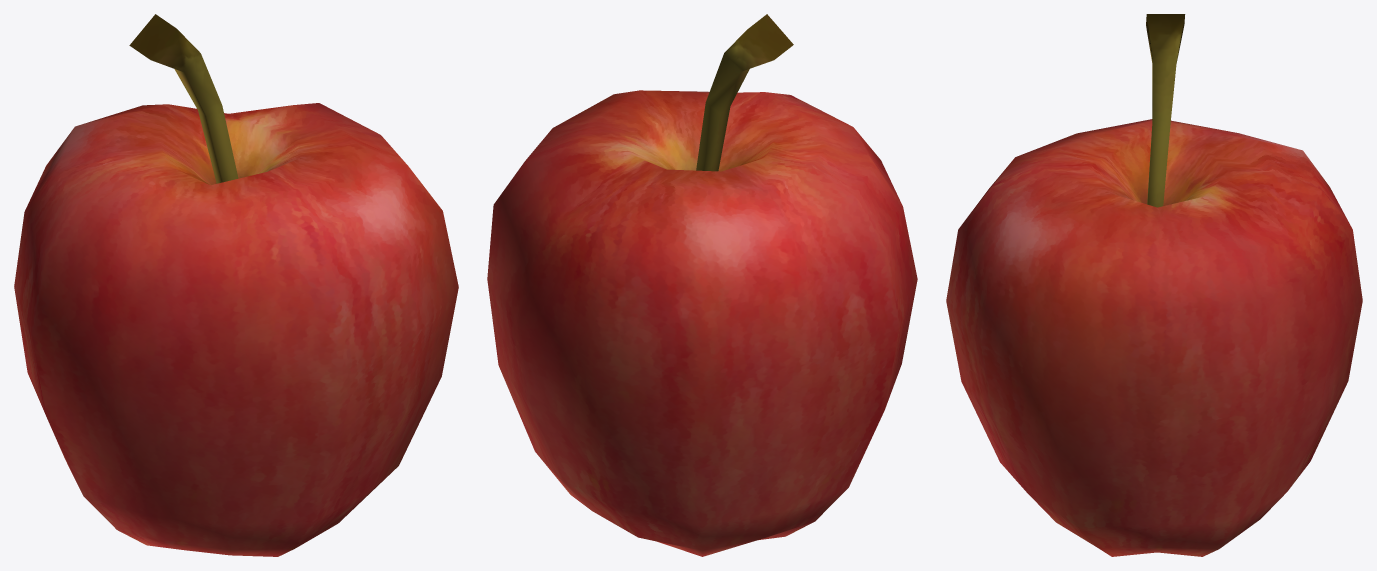
File: G_FruitTree_002_S1.FBX
3 views of the same model, side by side, from view 1: azimuth 30°, elevation 25°; view 2: azimuth 150°, elevation 25°; view 3: azimuth 270°, elevation 25° (orthographic). The views are drawn at different scales.
Visible parts, largest first — view 1: G_FruitTree_002_S1_P01_LOD0; view 2: G_FruitTree_002_S1_P01_LOD0; view 3: G_FruitTree_002_S1_P01_LOD0.
Part boxes in pixels (left/top/right/bottom): G_FruitTree_002_S1_P01_LOD0: left=14, top=14, right=458, bottom=556; G_FruitTree_002_S1_P01_LOD0: left=487, top=14, right=917, bottom=556; G_FruitTree_002_S1_P01_LOD0: left=946, top=14, right=1362, bottom=556.
Size of the model in its own units: 45.98 by 58.76 by 45.96.
